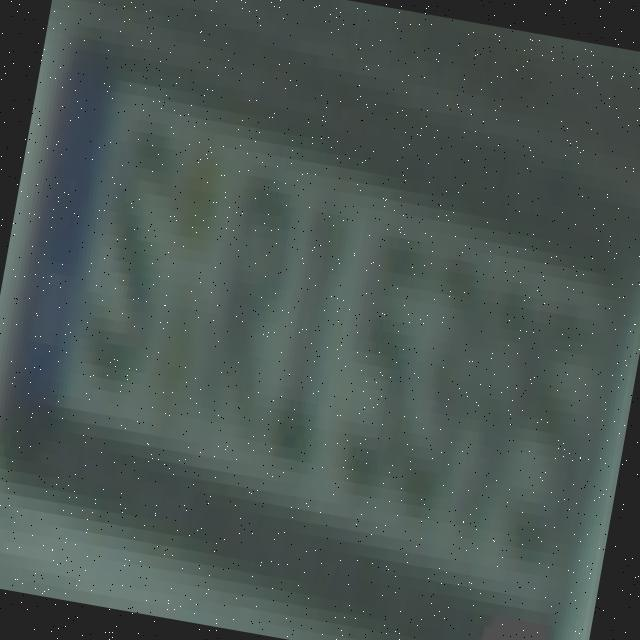Autre: (3, 34, 638, 619)
